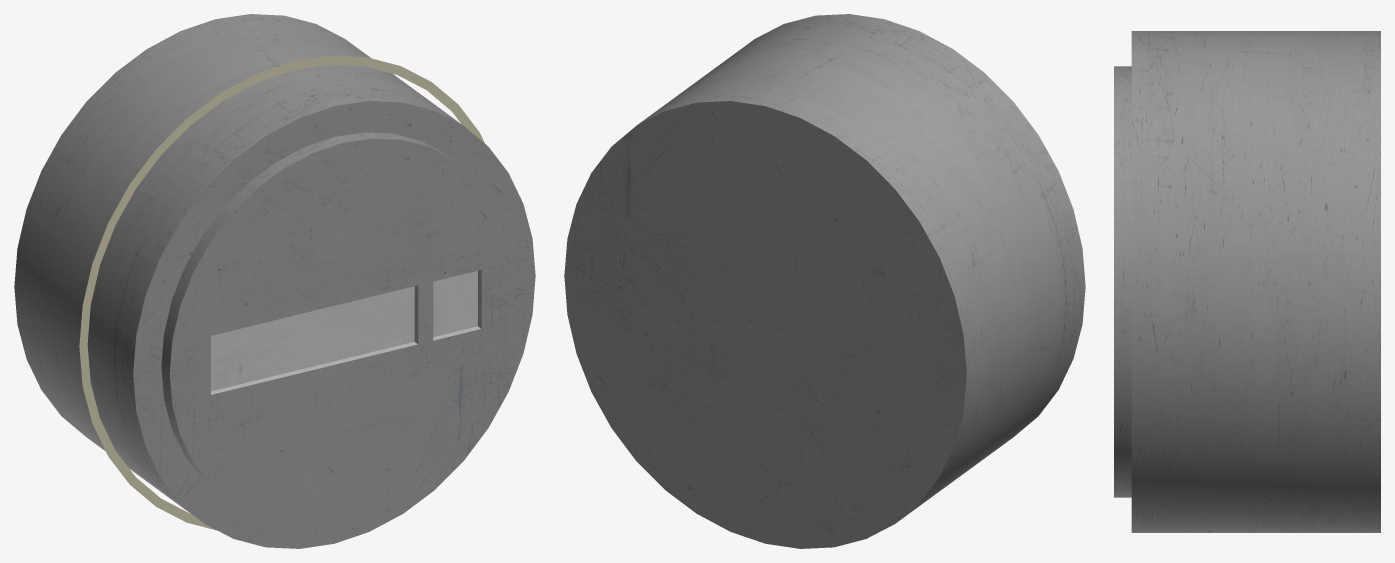
Rendered from Tablo.gltf.
3 renders of one model, left to right at view 1: azimuth 30°, elevation 25°; view 2: azimuth 150°, elevation 25°; view 3: azimuth 270°, elevation 25°, orthographic. The views are drawn at different scales.
Visible parts, largest first — view 1: Tablo; view 2: Tablo; view 3: Tablo.
Boxes of the visible parts, x1=… form: Tablo: x1=14, y1=14, x2=535, y2=548; Tablo: x1=564, y1=14, x2=1085, y2=548; Tablo: x1=1114, y1=31, x2=1380, y2=532.
Bounding box in the file's own units: 0.0282 × 0.0293 × 0.0145.
Materials: 3 (3 with a texture image).
